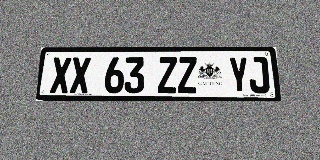3: (124, 57, 144, 93)
6: (104, 57, 125, 93)
J: (248, 57, 270, 93)
X: (50, 57, 71, 93), (70, 57, 91, 93)
Y: (228, 57, 250, 93)
Z: (158, 57, 177, 93), (178, 57, 197, 93)
